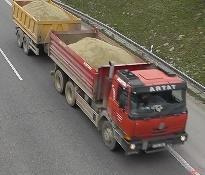Truck: (11, 0, 189, 156)
